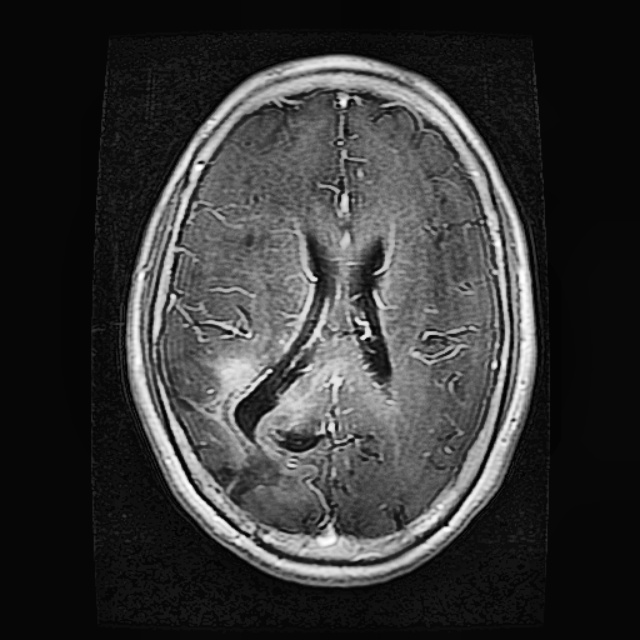Glioma: (210, 343, 308, 448)
